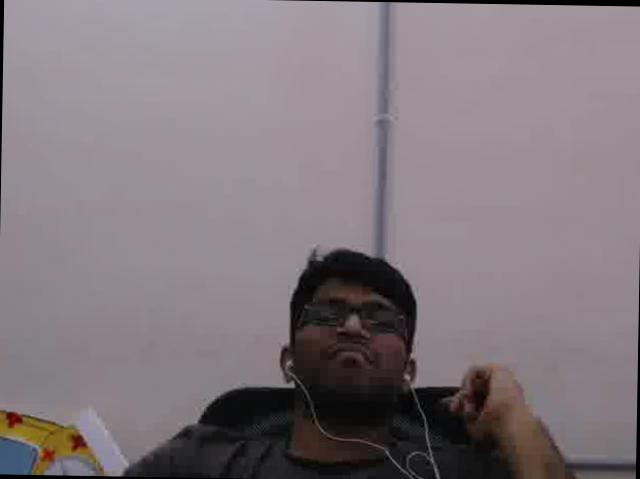bosan: (296, 274, 402, 396)
